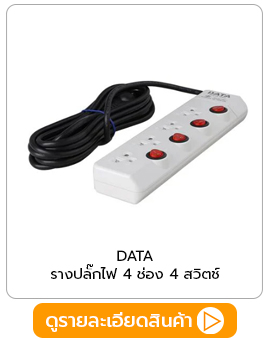Three_eye_plug: (81, 82, 250, 205)
